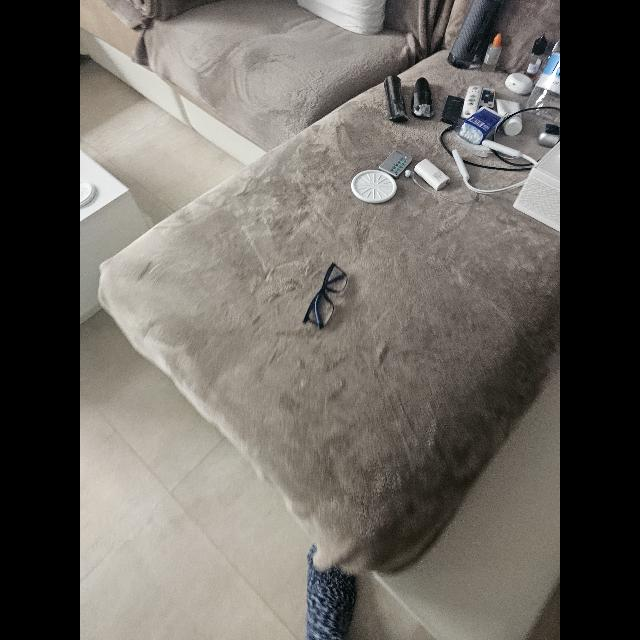glasses: (302, 263, 348, 329)
